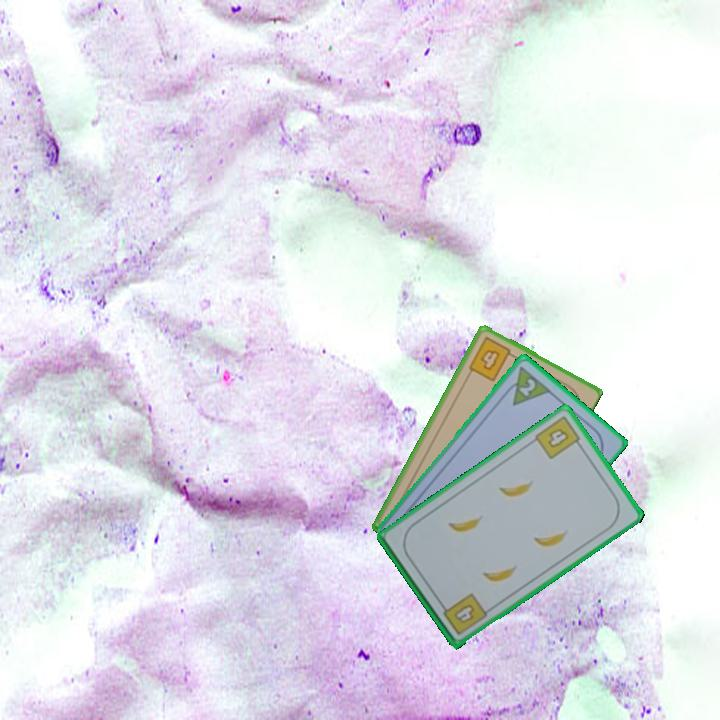2p: (499, 362, 553, 408)
4b: (465, 333, 519, 384), (531, 412, 586, 462), (437, 589, 490, 638)
